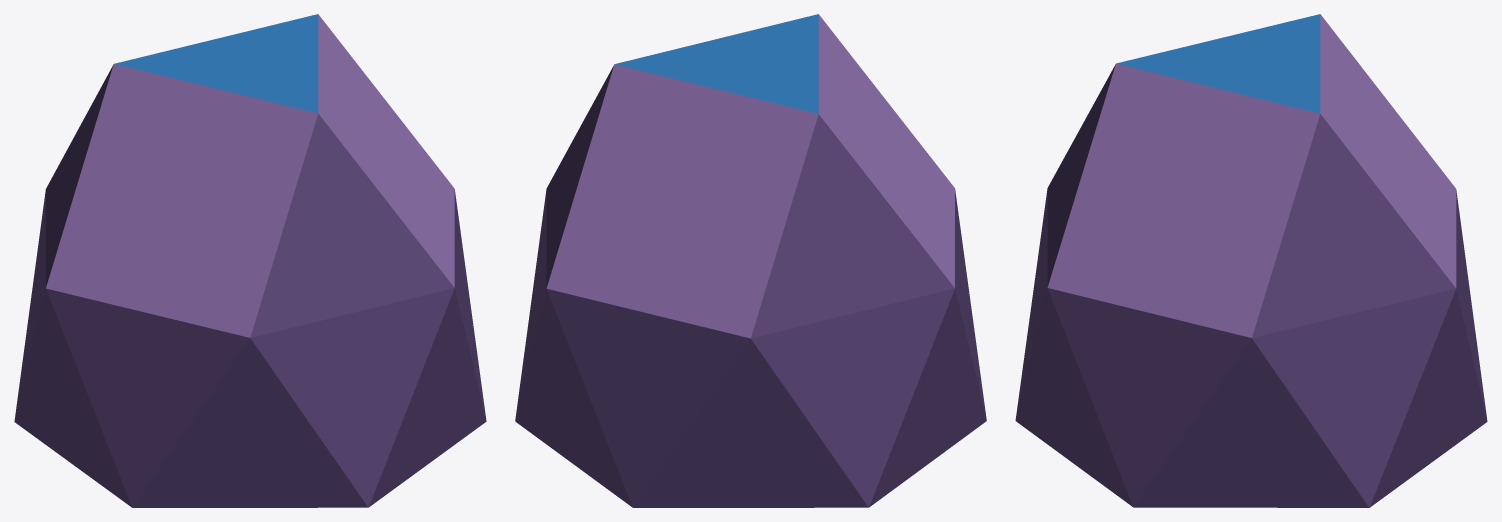
Rendered from J22.CupulaTriangularGiroelongada.gltf.
3 renders of one model, left to right at view 1: azimuth 30°, elevation 25°; view 2: azimuth 150°, elevation 25°; view 3: azimuth 270°, elevation 25°, orthographic.
Parts seen in each view (by area): view 1: J22.CupulaTriangularGiroelongada; view 2: J22.CupulaTriangularGiroelongada; view 3: J22.CupulaTriangularGiroelongada.
Part boxes in pixels (bbox=[...]): J22.CupulaTriangularGiroelongada: bbox=[14, 14, 486, 507]; J22.CupulaTriangularGiroelongada: bbox=[515, 14, 986, 507]; J22.CupulaTriangularGiroelongada: bbox=[1015, 14, 1487, 507].
Bounding box in the file's own units: 14.58 × 12.21 × 14.58.
